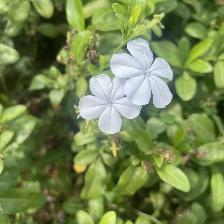chitrak: (112, 38, 173, 111), (77, 72, 144, 137)
